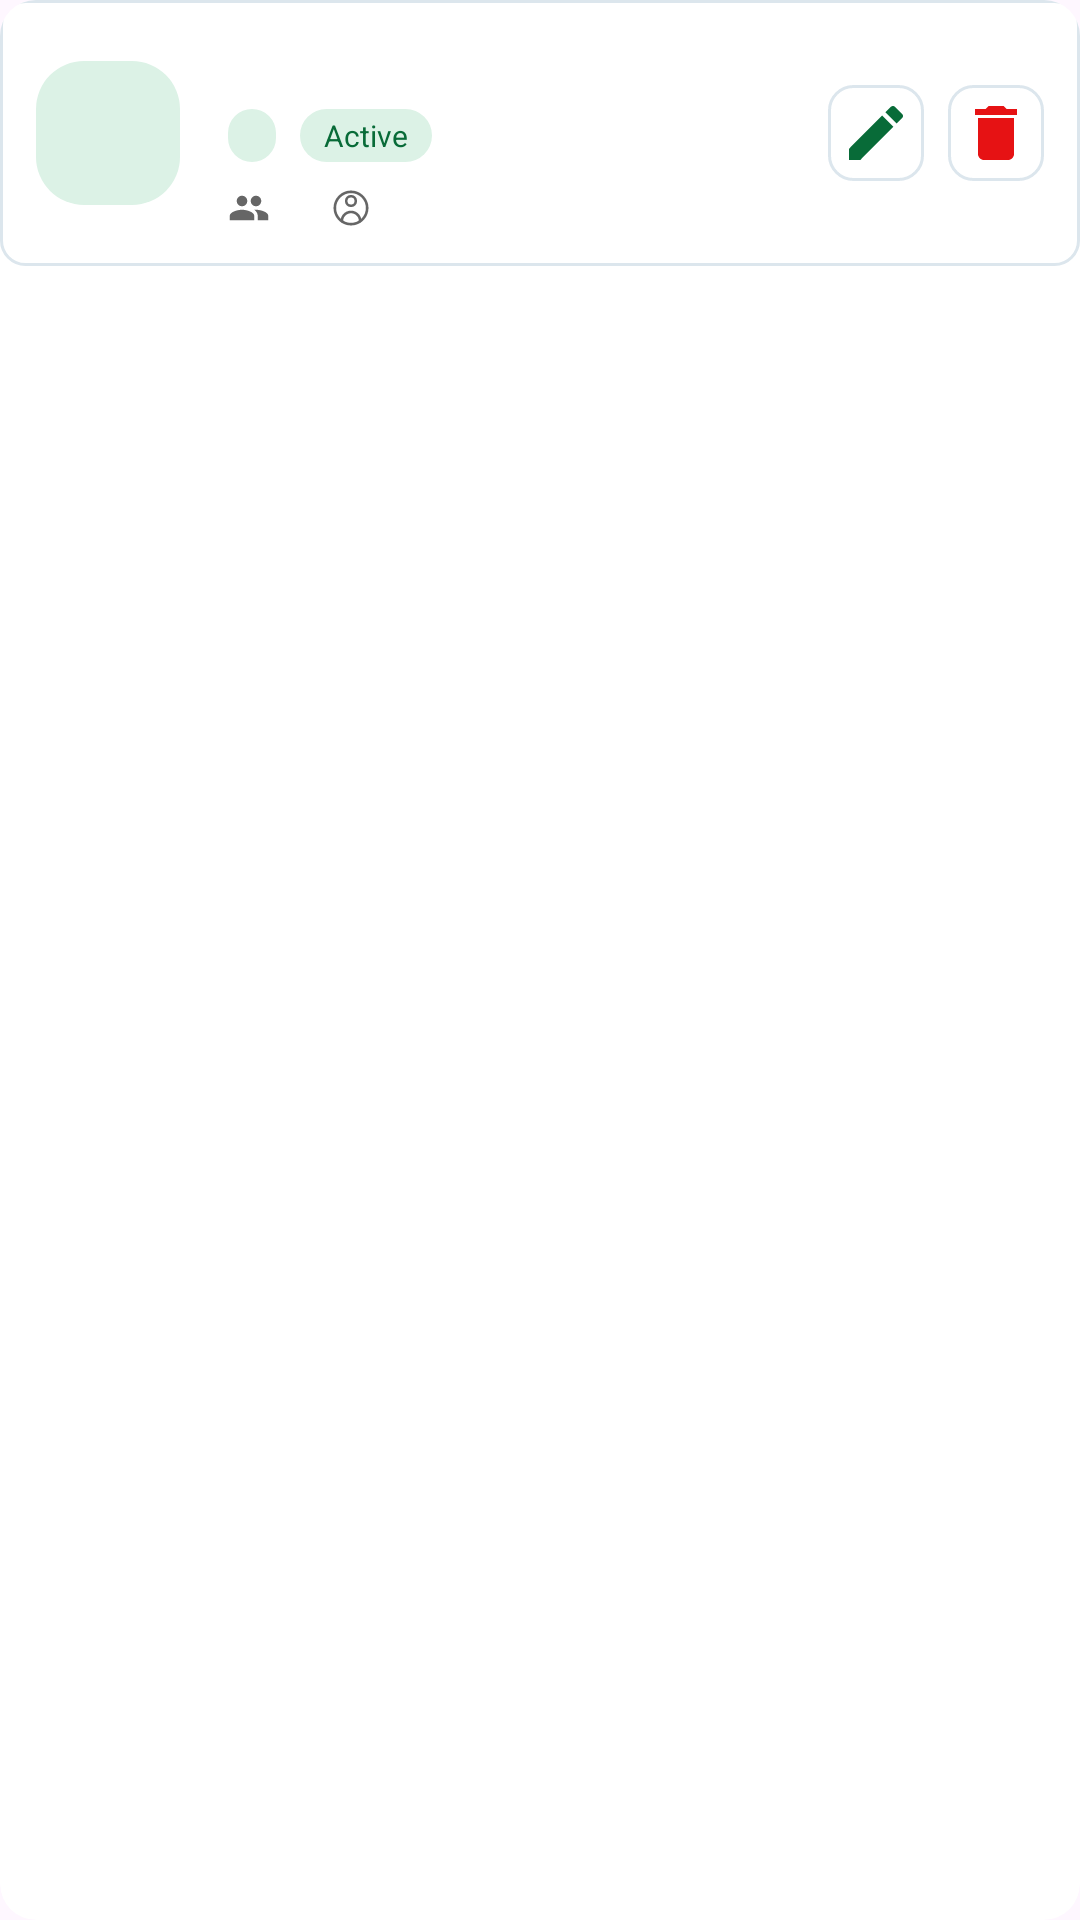

Icons on this 1080×1920 Android screen, each with the point to tap as (x=x, y=y):
delete: (x=996, y=133)
edit: (x=876, y=133)
profile: (x=351, y=208)
